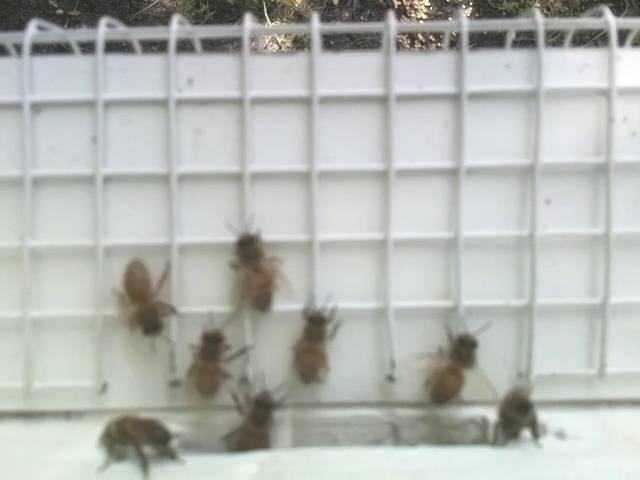bee: (216, 209, 295, 321), (419, 304, 496, 407), (91, 406, 192, 477), (109, 252, 183, 340), (186, 317, 253, 404), (483, 371, 555, 451), (228, 377, 294, 461), (296, 284, 341, 390)
